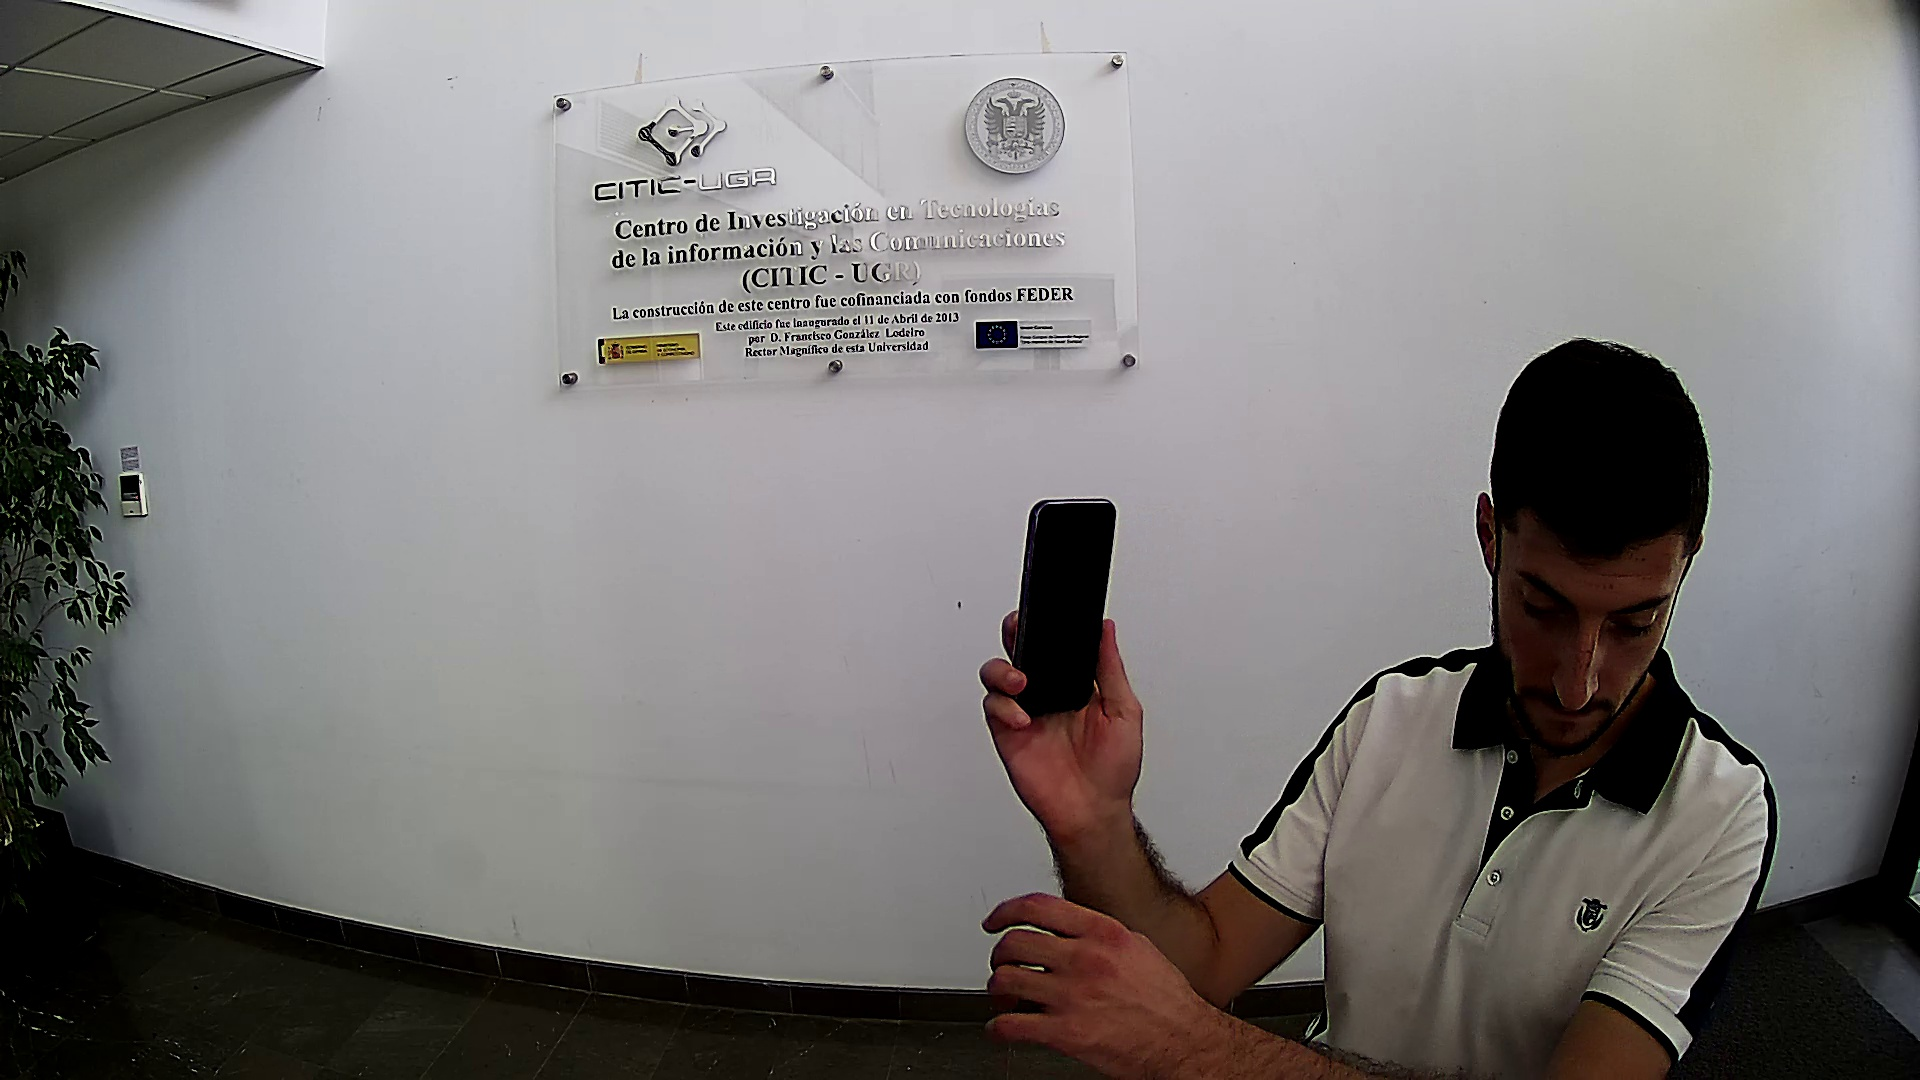smartphone: (1007, 496, 1120, 721)
